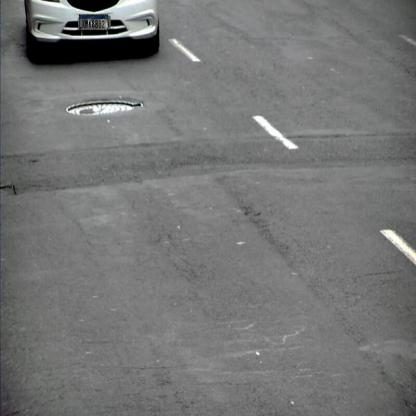PlacaM: (79, 14, 108, 30)
